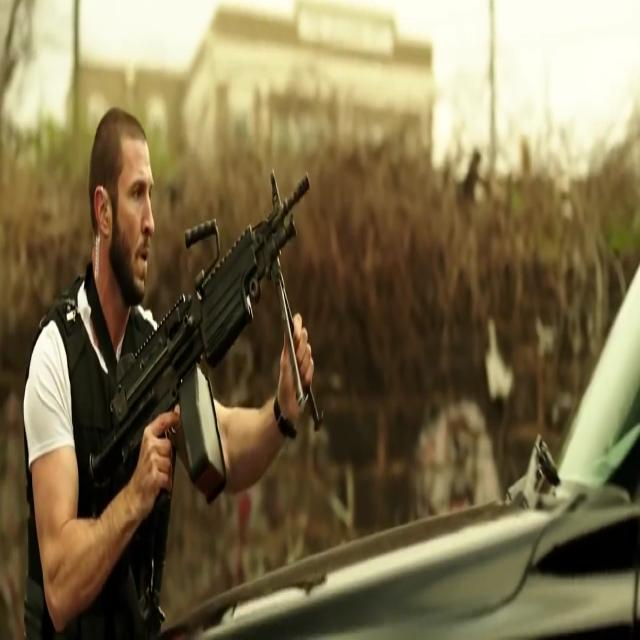Weapon: (51, 209, 314, 536)
